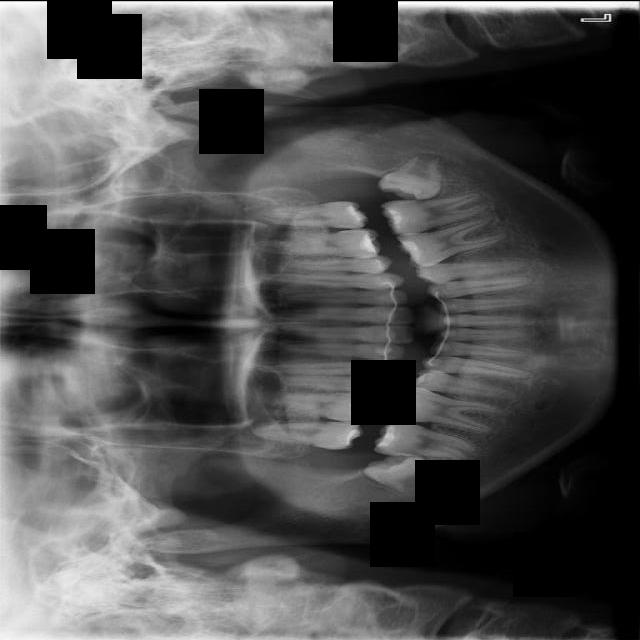52: (367, 404, 427, 467), (395, 217, 451, 275), (389, 377, 444, 433), (378, 189, 432, 242), (327, 383, 376, 429), (333, 224, 383, 262), (323, 196, 369, 232), (311, 419, 363, 450), (411, 368, 455, 391), (346, 373, 388, 396), (347, 253, 393, 273)
73: (590, 48, 596, 58)
BioHorizons Implant: (258, 195, 368, 229)
Biomet 3i Implant: (377, 149, 446, 202)
Blue Sky Bio Implant: (379, 190, 490, 237)
Caries: (253, 420, 364, 451)
Implant: (372, 417, 479, 461)
Keystone Dental Implant: (361, 448, 435, 500)
